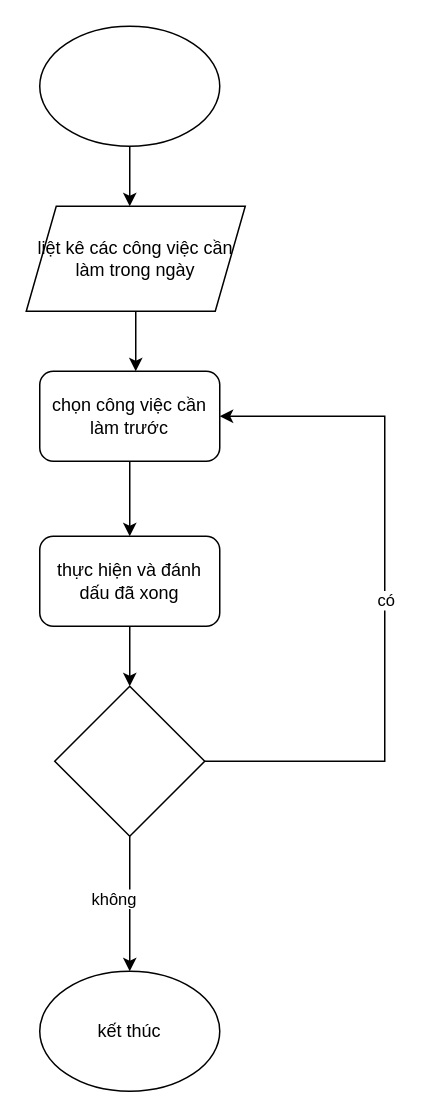
This 423x1118 diagram has some shape labels left out. The shapes that lost their labels are listed below. From the top down, each one's box as (x1, y1, x2, y2) in pixels, then its label:
(38, 25, 220, 146): bắt đầu
(53, 685, 205, 836): còn công việc nào chưa xong
